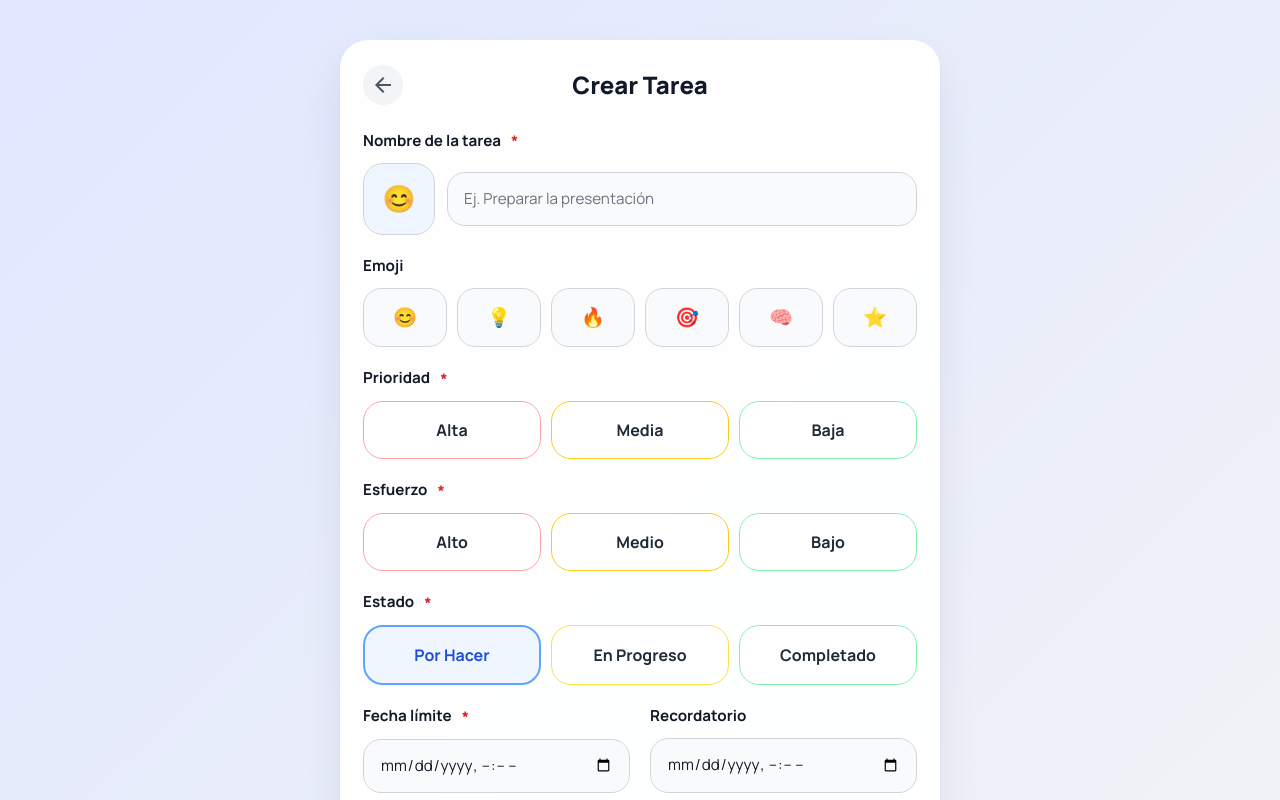
Test: CreateTaskView.vue › permite seleccionar un icono emoji para la tarea
The image size is (1280, 800).
Click the button with class "emoji-button" showing "🔥" at coordinates (593, 317), box [551,288,635,347]
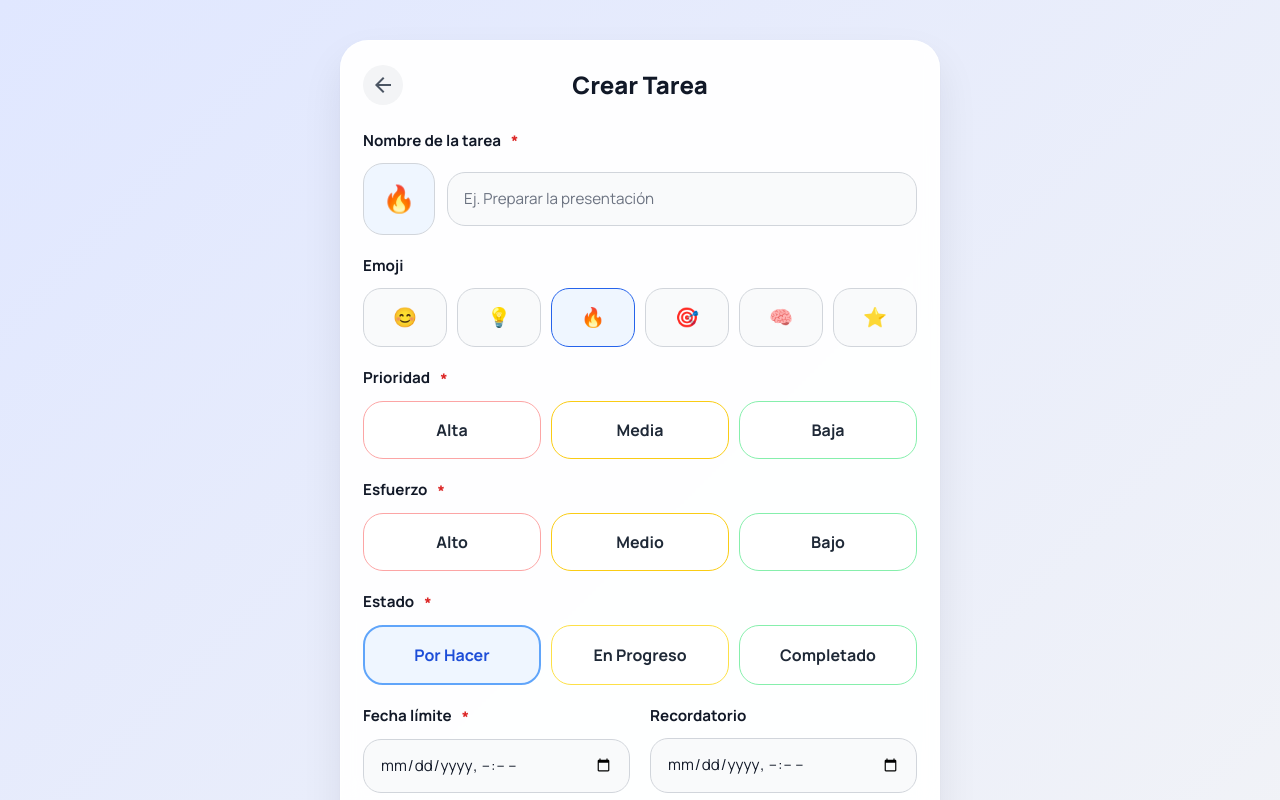
Result: the text with class "emoji-avatar" reads "🔥" at [382,180,415,216]
